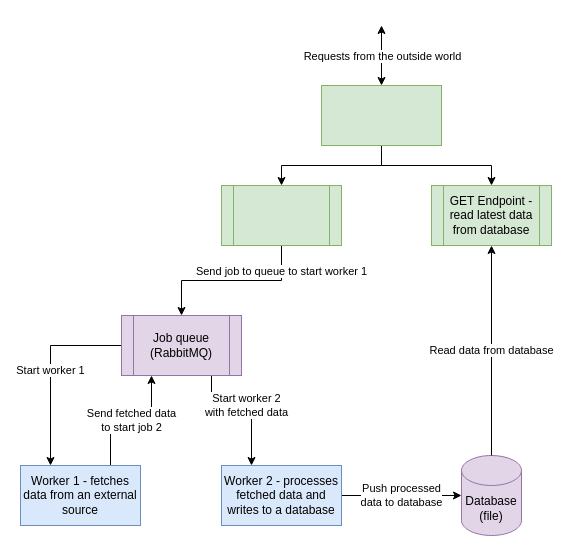
This 571x553 diagram has some shape labels left out. The shapes that lost their labels are listed below. From the top down, each one's centre as x and y in pixels, then its label:
(381,115): API
(281,215): POST Endpoint kick off new data fetch
